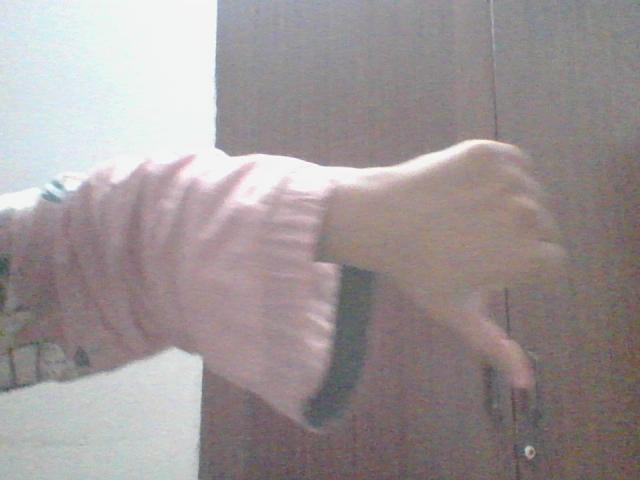thumbs-down: (393, 136, 569, 394)
